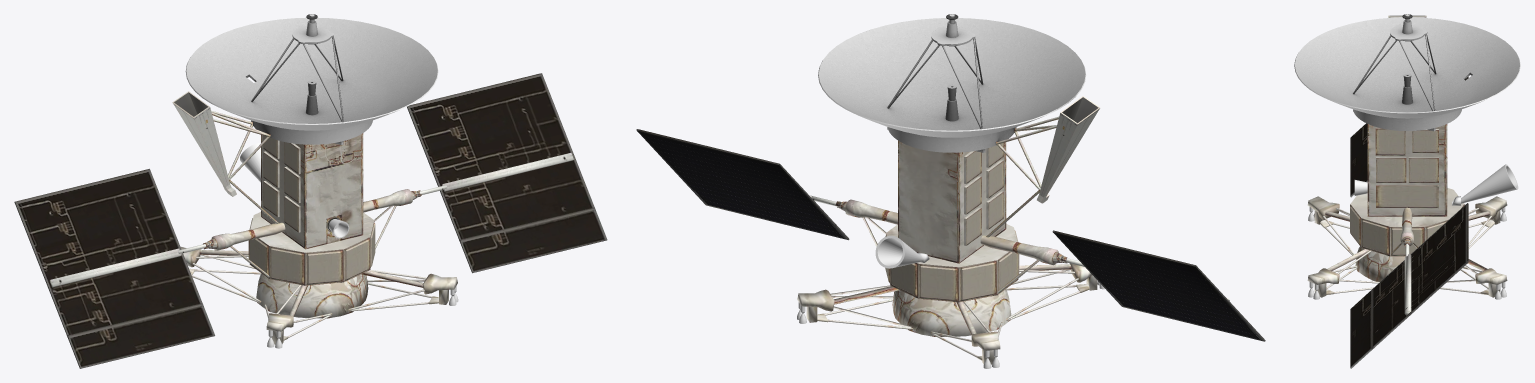
The model's file is magellan.gltf.
The picture shows the model from 3 angles, left to right: view 1: azimuth 30°, elevation 25°; view 2: azimuth 150°, elevation 25°; view 3: azimuth 270°, elevation 25°; orthographic projection. The views are drawn at different scales.
Parts seen in each view (by area): view 1: BUS, dish_etc, aluminum.002, aluminum; view 2: BUS, dish_etc, shiny_panel, aluminum; view 3: BUS, dish_etc, aluminum, aluminum.002.
Part boxes in pixels (x1,y1,x2,y2): BUS: [14, 73, 607, 368]; dish_etc: [185, 14, 438, 144]; aluminum.002: [267, 219, 458, 348]; aluminum: [240, 143, 260, 182]; BUS: [636, 96, 1265, 364]; dish_etc: [818, 14, 1086, 152]; shiny_panel: [637, 130, 1264, 341]; aluminum: [875, 235, 922, 268]; BUS: [1307, 15, 1507, 368]; dish_etc: [1294, 14, 1520, 131]; aluminum: [1461, 164, 1518, 203]; aluminum.002: [1308, 180, 1506, 299].
Bounding box in the file's own units: 8.9 × 4.53 × 3.7.
Materials: 5 (3 with a texture image).
